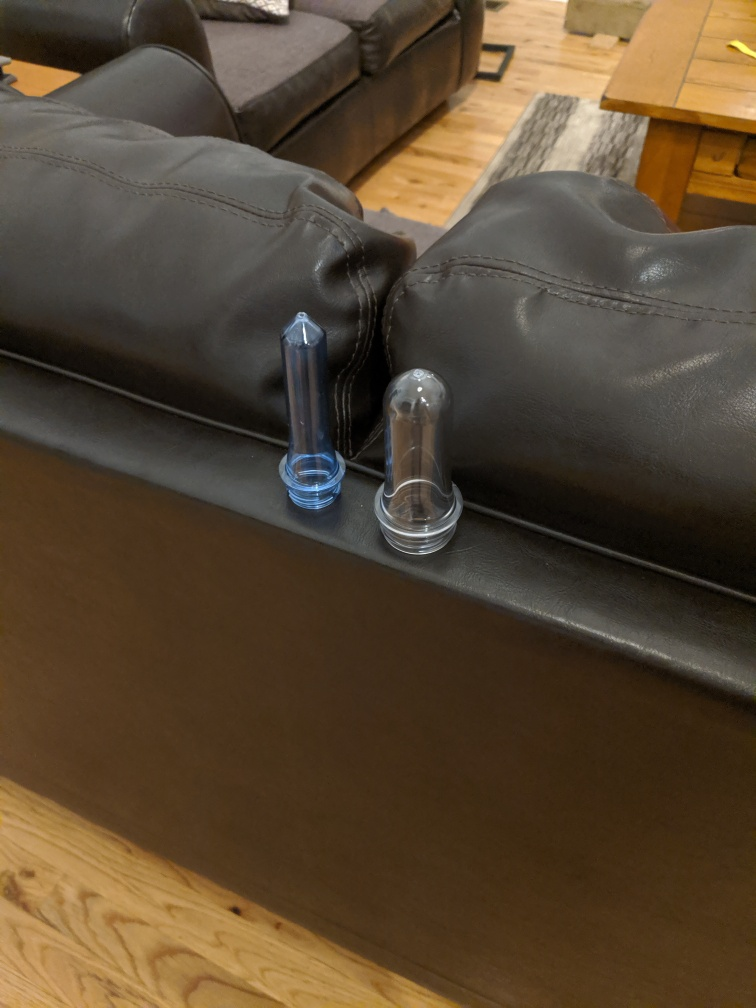preform: (367, 364, 473, 564), (272, 305, 352, 524)
